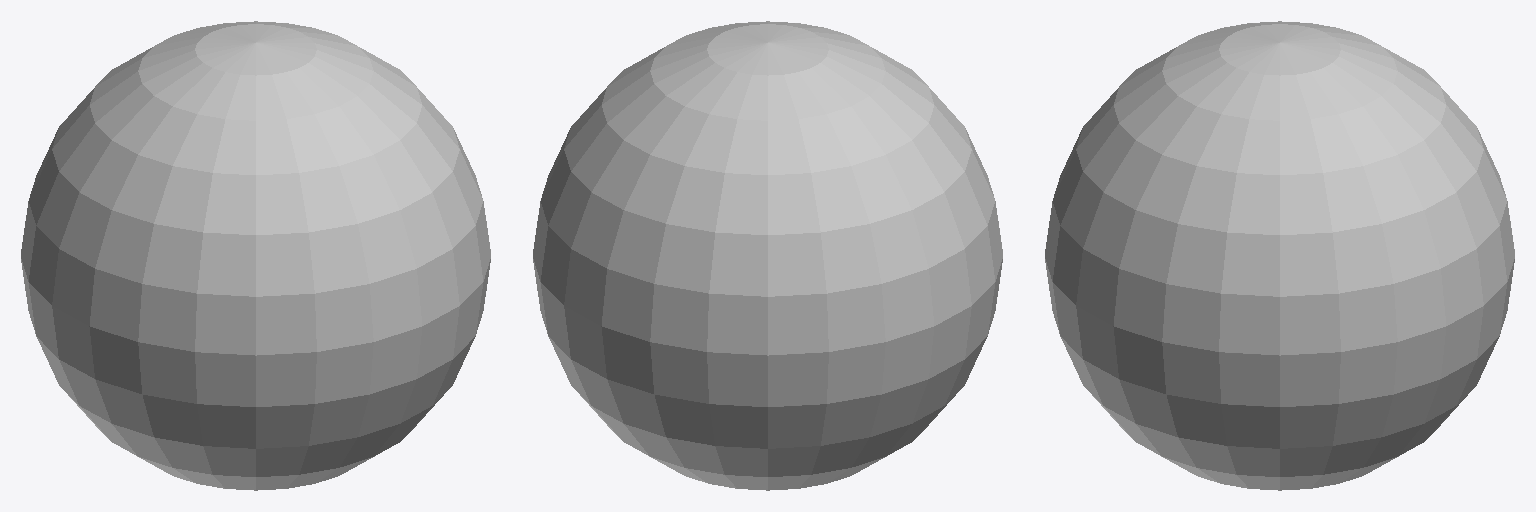
Rendered from Ball.obj.
3 views of the same model, side by side, from view 1: azimuth 30°, elevation 25°; view 2: azimuth 150°, elevation 25°; view 3: azimuth 270°, elevation 25° (orthographic).
Parts seen in each view (by area): view 1: Ball.obj; view 2: Ball.obj; view 3: Ball.obj.
Boxes of the visible parts, box(x1,y1,x2,y2) form: Ball.obj: box(21, 21, 490, 490); Ball.obj: box(533, 21, 1002, 490); Ball.obj: box(1045, 21, 1514, 490).
Size of the model in its own units: 0.4 by 0.4 by 0.4.